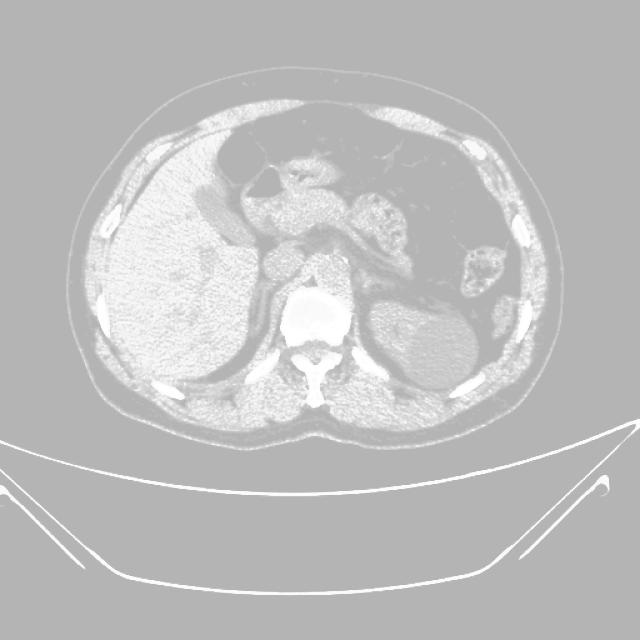cysts: (245, 154, 584, 381)
